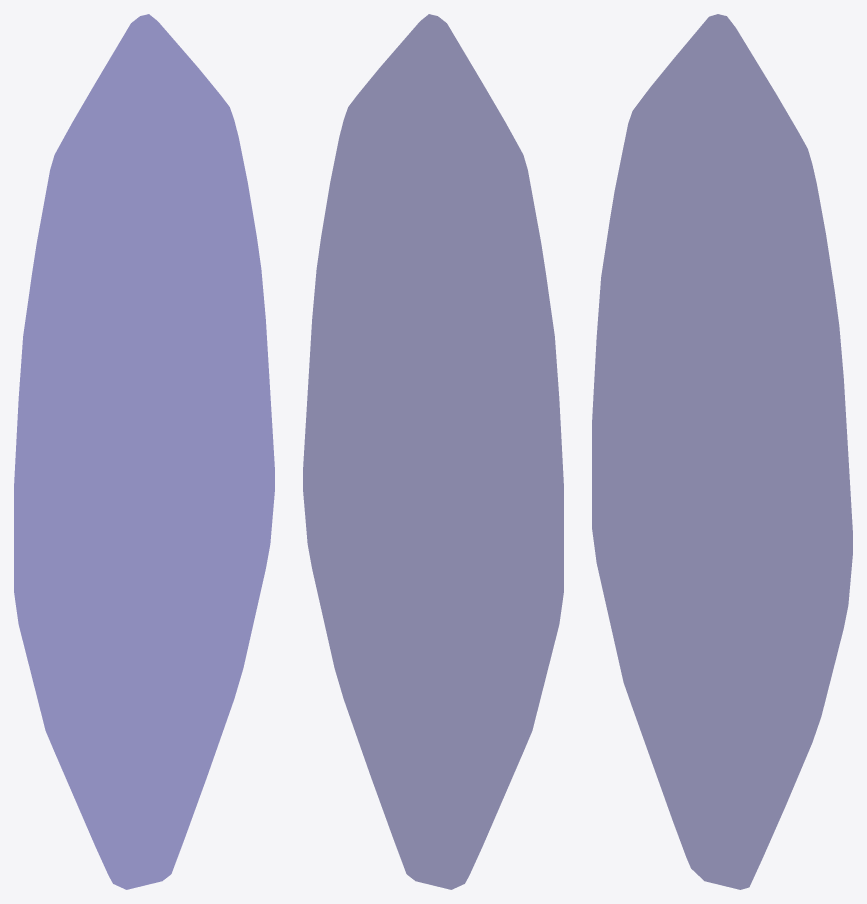
The picture shows the model from 3 angles, left to right: view 1: azimuth 30°, elevation 25°; view 2: azimuth 150°, elevation 25°; view 3: azimuth 330°, elevation 25°; orthographic projection.
Visible parts, largest first — view 1: Shape_IndexedFaceSet.013_Shape_IndexedFaceSet.15634; view 2: Shape_IndexedFaceSet.013_Shape_IndexedFaceSet.15634; view 3: Shape_IndexedFaceSet.013_Shape_IndexedFaceSet.15634.
Part boxes in pixels (x1,y1,x2,y2): Shape_IndexedFaceSet.013_Shape_IndexedFaceSet.15634: [14, 14, 274, 889]; Shape_IndexedFaceSet.013_Shape_IndexedFaceSet.15634: [303, 14, 563, 889]; Shape_IndexedFaceSet.013_Shape_IndexedFaceSet.15634: [592, 14, 852, 889].
Bounding box in the file's own units: 0.0553 × 0.1764 × 0.
